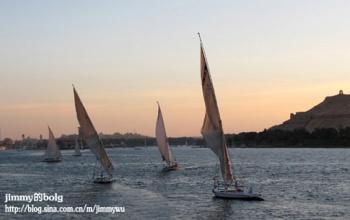fanchuan: (199, 34, 260, 200), (71, 84, 124, 189), (152, 103, 188, 173), (39, 120, 67, 164)
